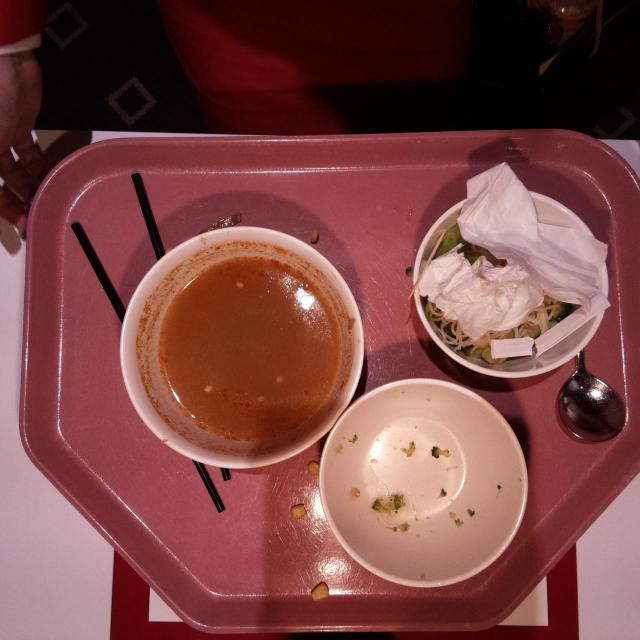Noodle: (424, 294, 515, 350)
Vegetable: (430, 222, 466, 266), (548, 301, 580, 327)
